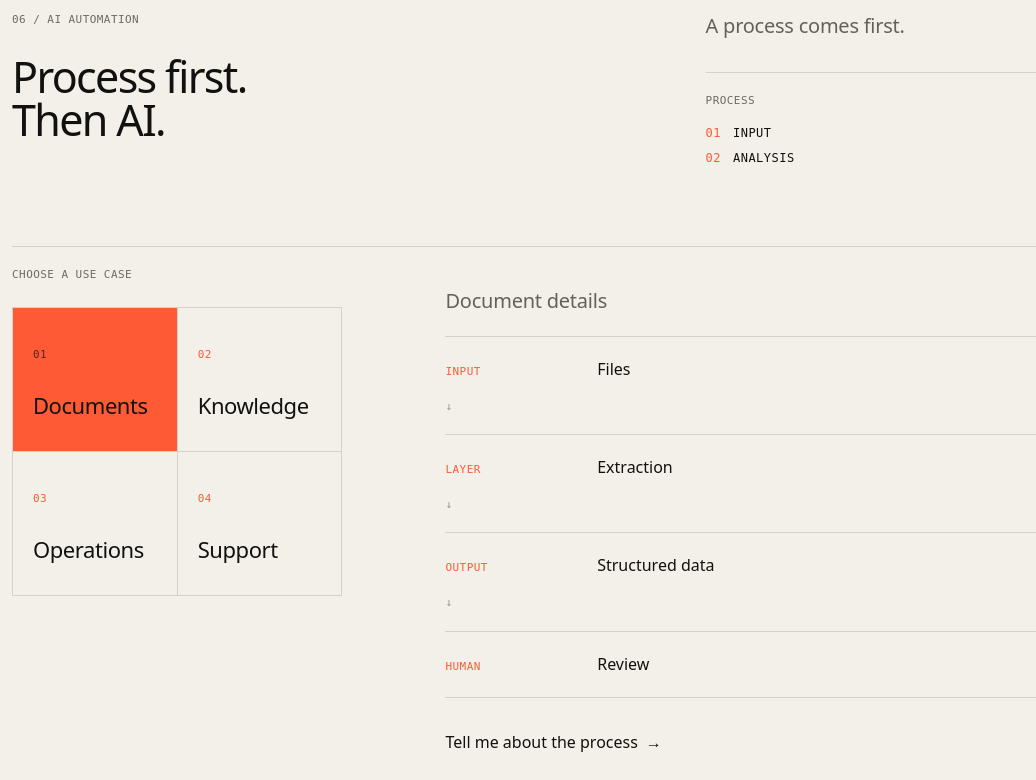
Scenario: AIProcessExplorer › changes the selected use case on a touch interaction
Press the mouse on the button "02 Knowledge" at coordinates (260, 380), box [178,308,342,452]
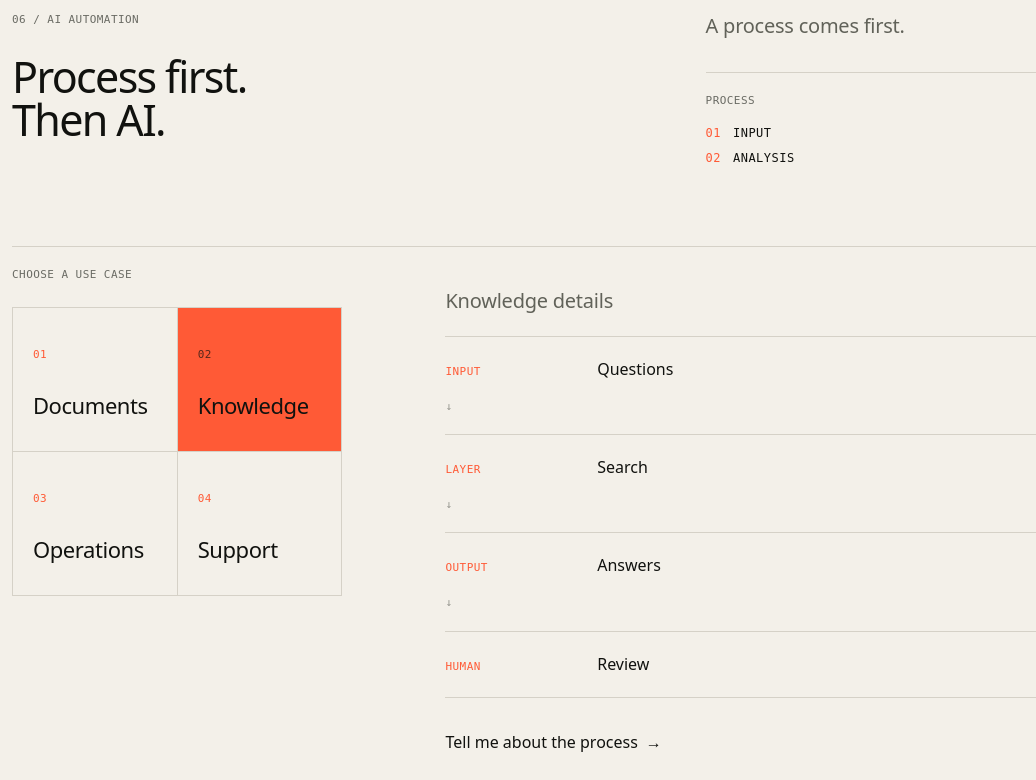
Check: the text "Knowledge details" is shown, box [446,287,613,314]
